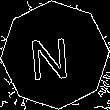N_N: (33, 28, 77, 82)
